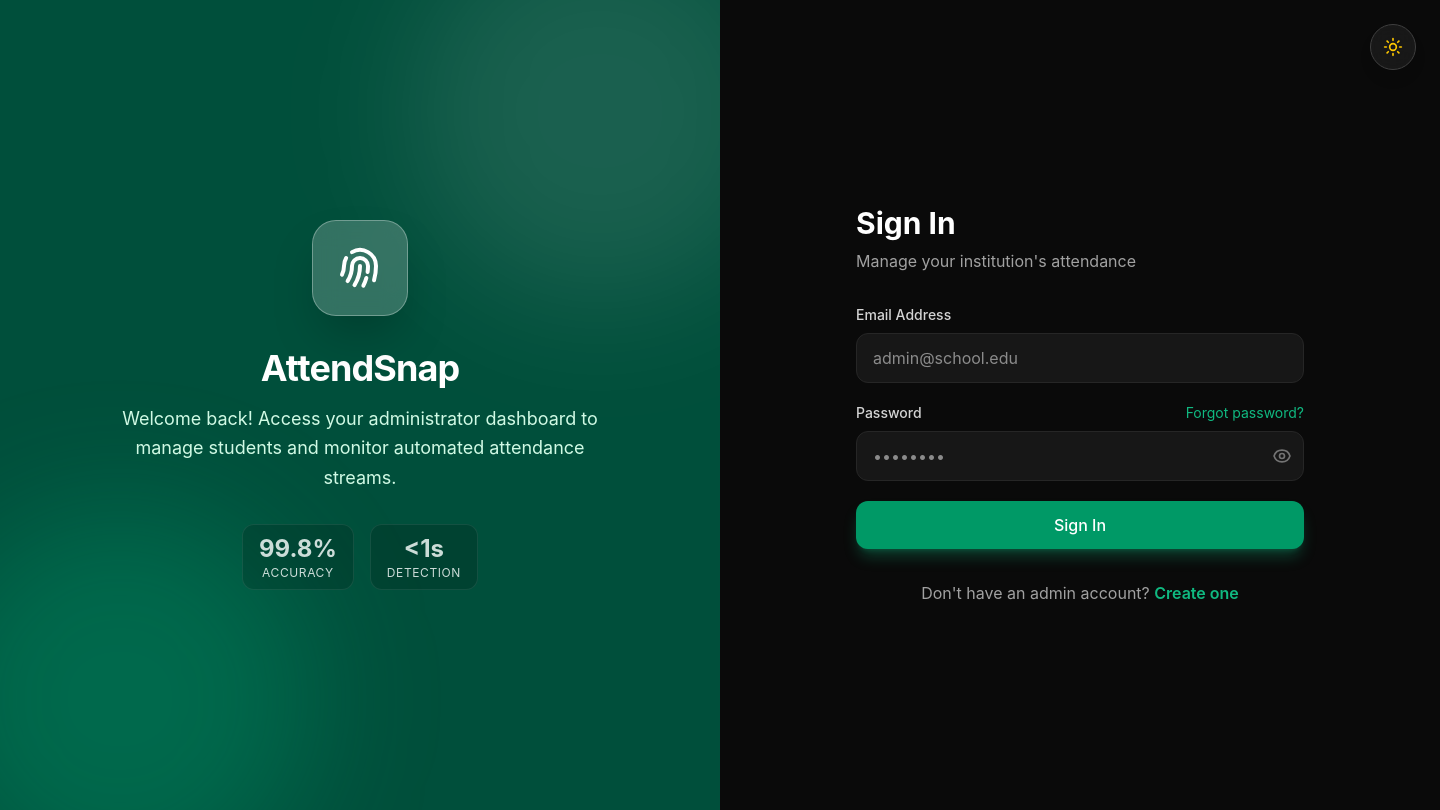
Test: AdminAuth — Login Form › server 429 on login shows rate-limit message
The image size is (1440, 810).
Type "admin@test.com" into the field labelled "Email Address".
click(1080, 358); type("admin@test.com")  # box [856, 333, 1304, 383]
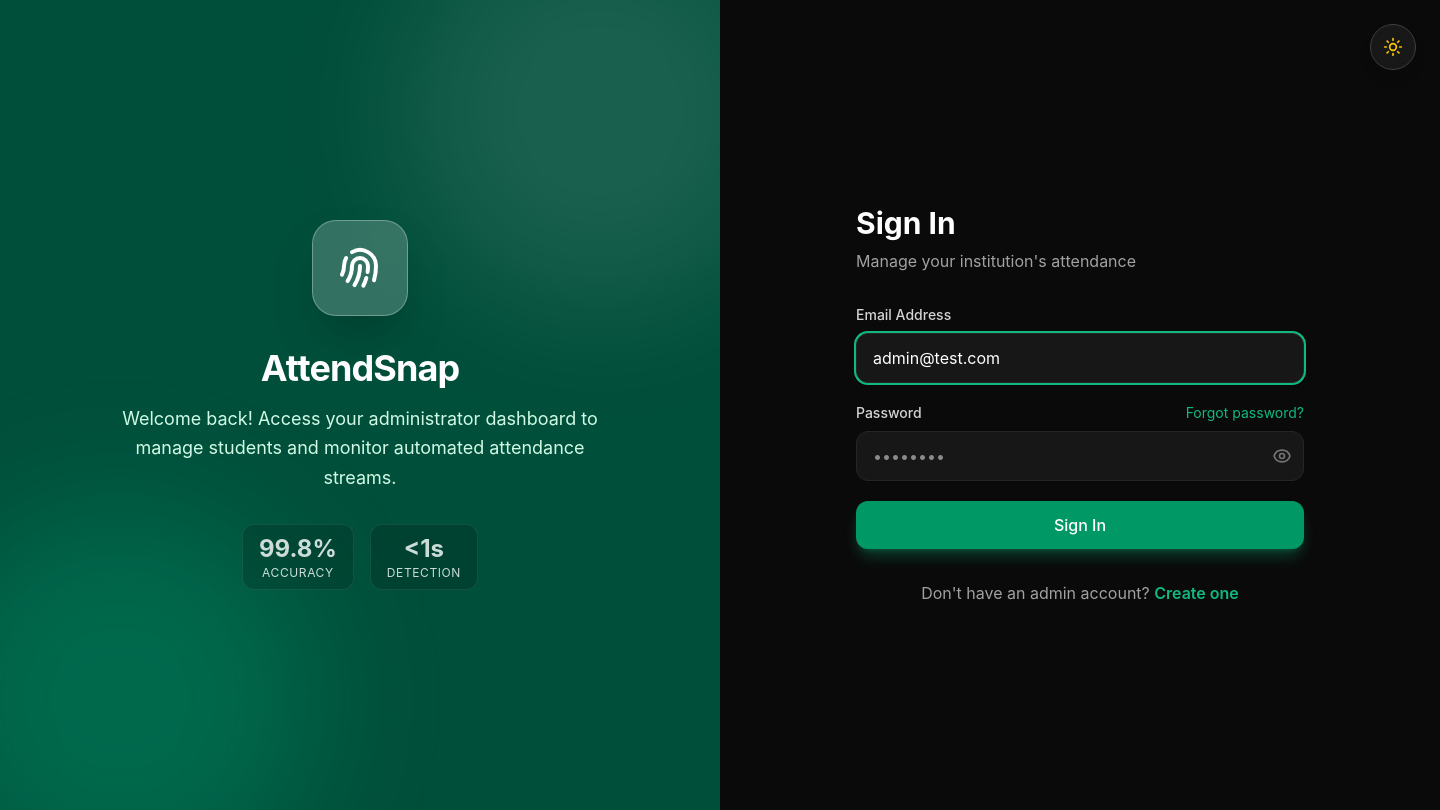
Type "pass" into the password field with placeholder "••••••••".
click(1080, 456); type("pass")  # box [856, 431, 1304, 481]
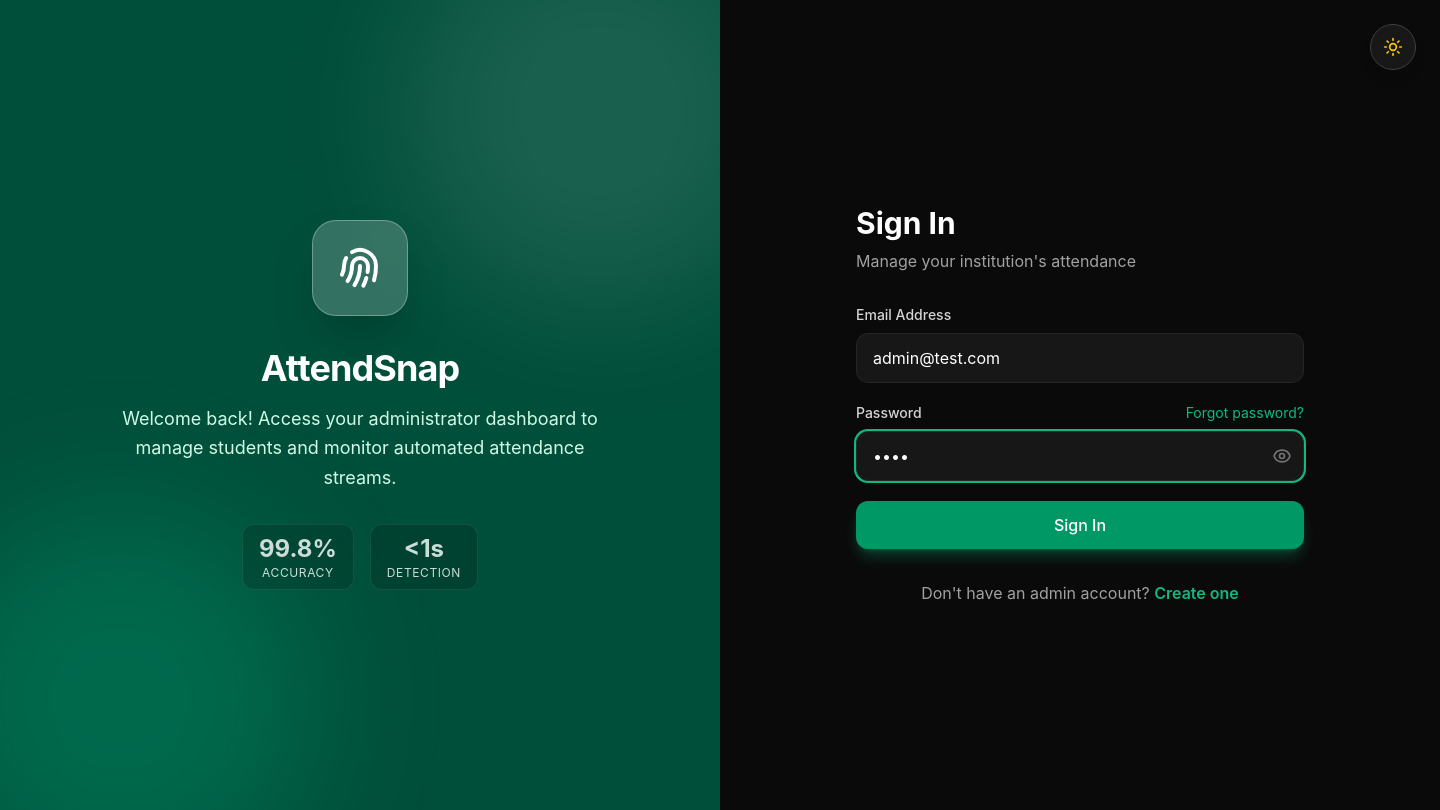
Click the button "Sign In".
click(1080, 525)  # box [856, 501, 1304, 549]
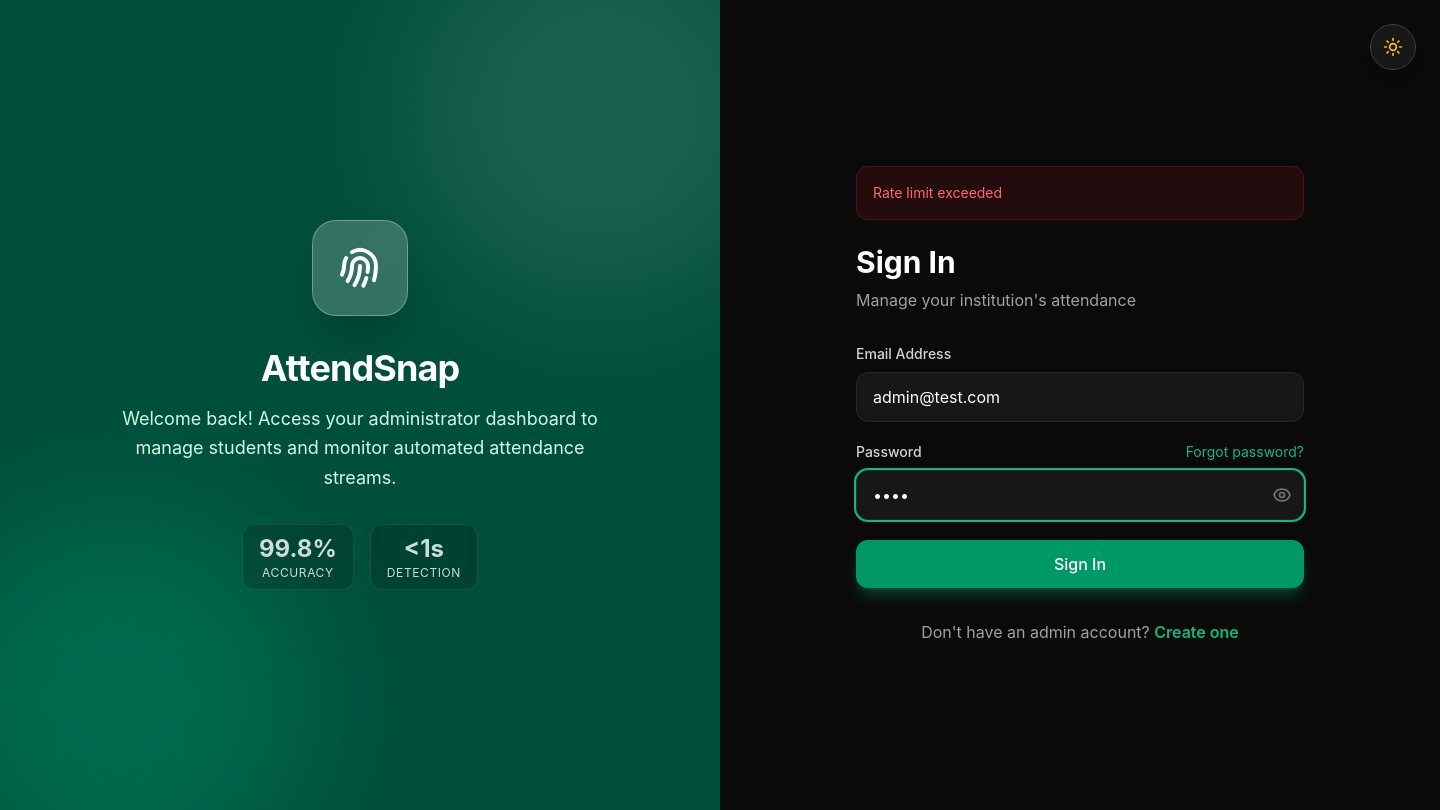
Expected: the text "Rate limit exceeded" is shown, [856, 166, 1304, 220]
